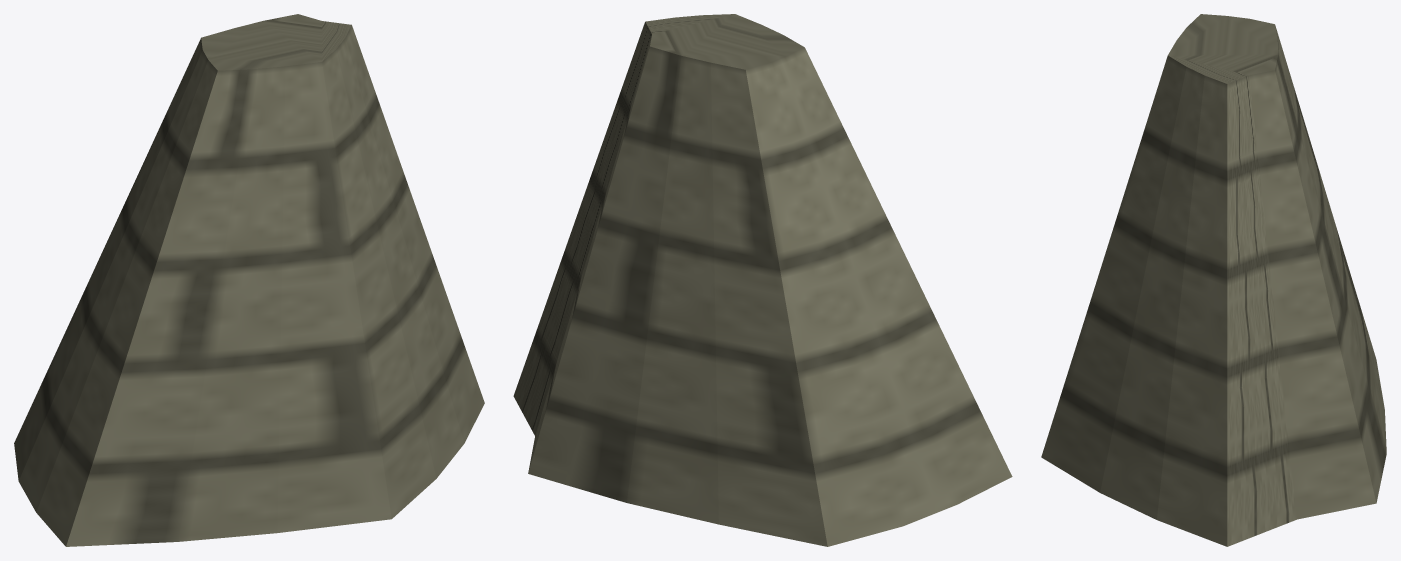
File: cliff-karst-lod0.glb
The picture shows the model from 3 angles, left to right: view 1: azimuth 30°, elevation 25°; view 2: azimuth 150°, elevation 25°; view 3: azimuth 270°, elevation 25°; orthographic projection. The views are drawn at different scales.
Bounding box in the file's own units: 0.576 × 0.49 × 0.384.
Materials: 1 (1 with a texture image).
